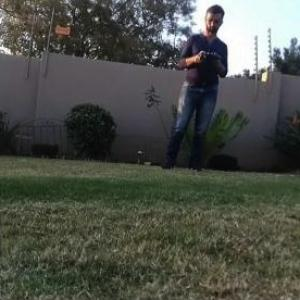follow: (153, 0, 232, 177)
